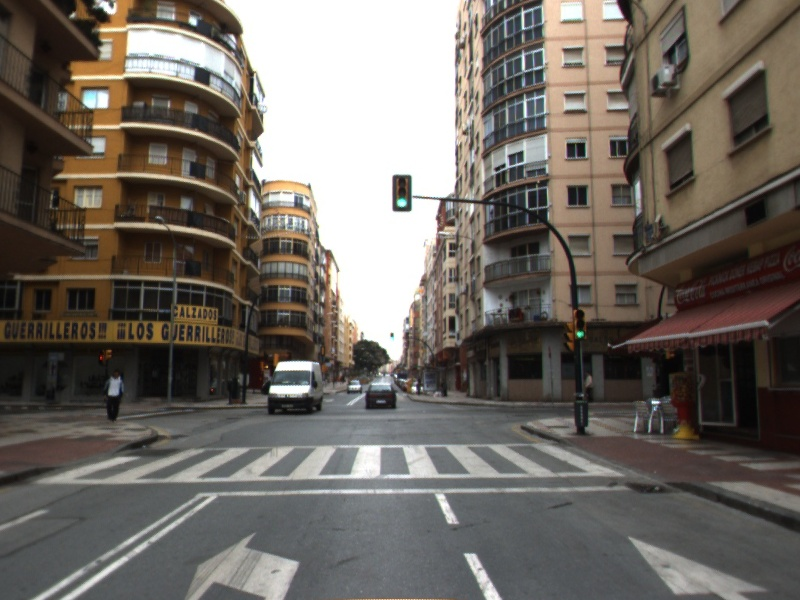LEFT: (181, 531, 302, 600)
STRAIGHT: (626, 534, 773, 600)
